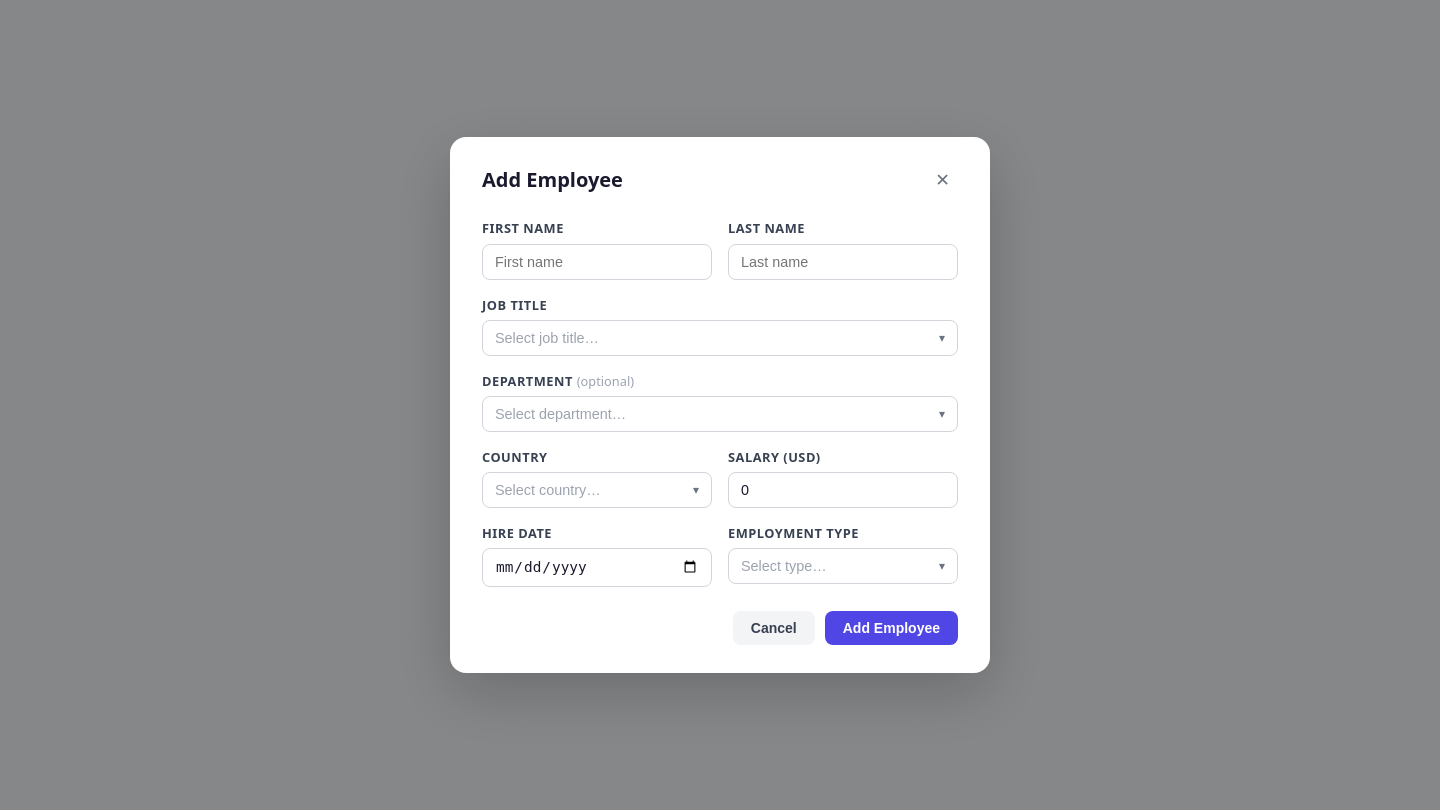
Test: AddEmployeeModal › validation › shows errors for all required fields on empty submit
Click the button "Add Employee".
click(891, 628)  # box top-left (825, 611), bottom-right (958, 645)
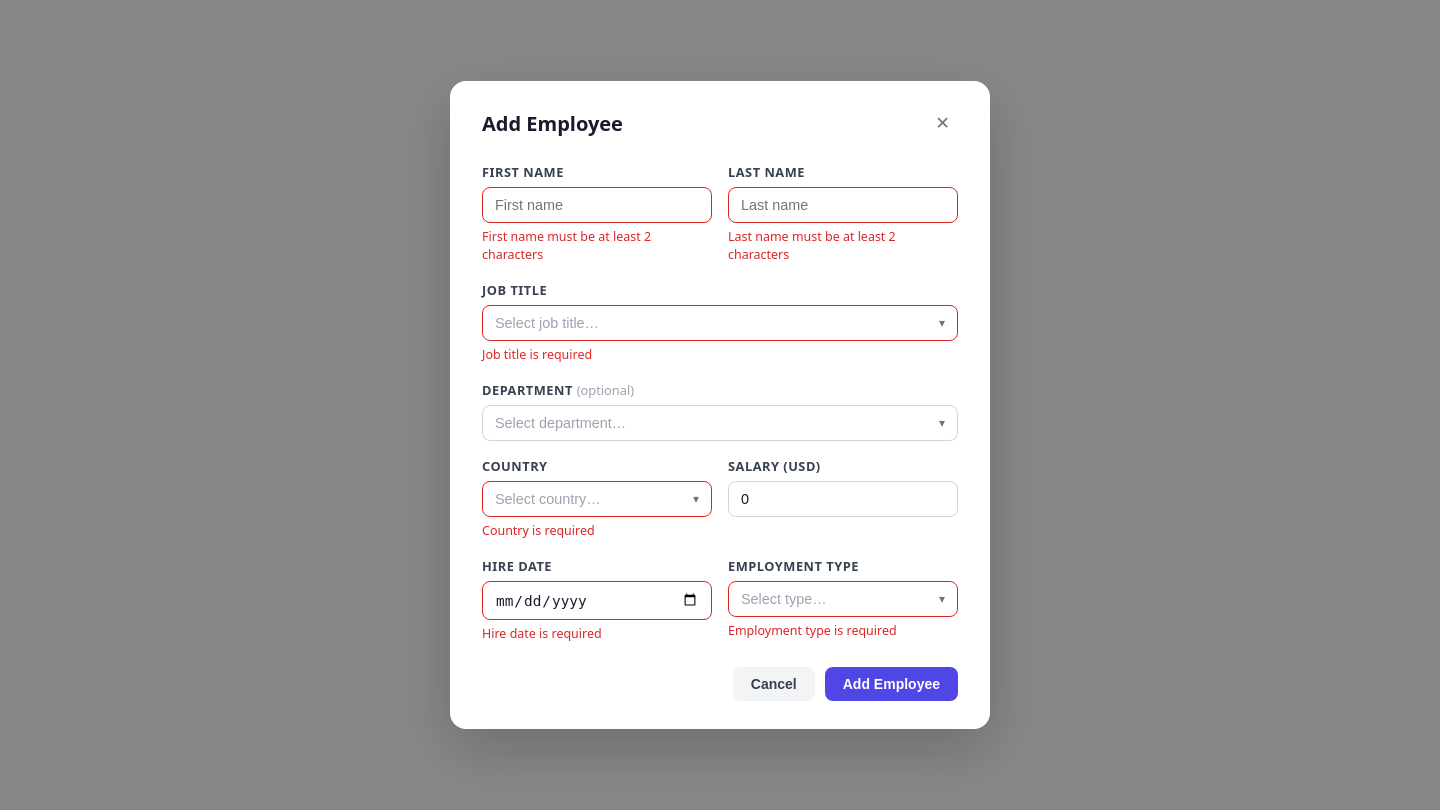
Now the text "First name must be at least 2 characters" is shown, box top-left (482, 228), bottom-right (651, 263)
Now the text "Last name must be at least 2 characters" is shown, box top-left (728, 228), bottom-right (896, 263)
Now the text "Job title is required" is shown, box top-left (482, 346), bottom-right (592, 363)
